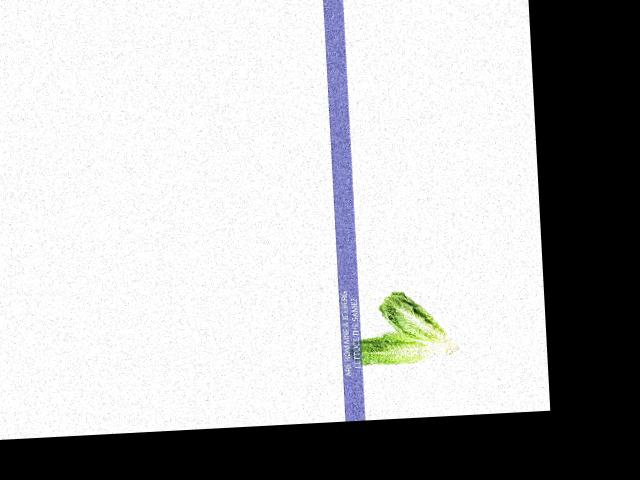lettuce: (371, 290, 459, 362)
